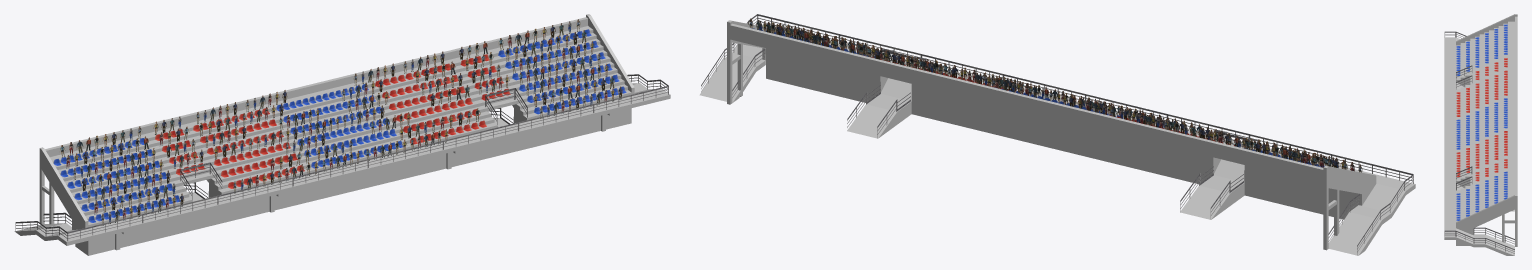
File: Stand-02.fbx
3 renders of one model, left to right at view 1: azimuth 30°, elevation 25°; view 2: azimuth 150°, elevation 25°; view 3: azimuth 270°, elevation 25°, orthographic. The views are drawn at different scales.
Parts seen in each view (by area): view 1: Stand-02, Audience; view 2: Stand-02, Audience; view 3: Stand-02.
Part boxes in pixels (<box>): Stand-02: <box>14,14,670,255</box>; Audience: <box>59,19,622,225</box>; Stand-02: <box>699,14,1415,255</box>; Audience: <box>748,18,1362,172</box>; Stand-02: <box>1444,14,1517,255</box>.
Size of the model in its own units: 8000 by 1011 by 1245.
